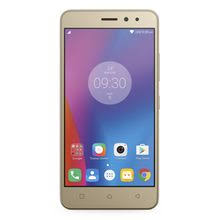lenovo: (57, 8, 161, 213)
